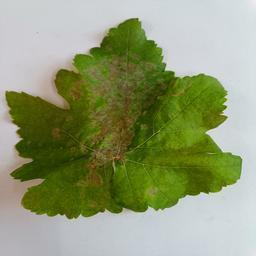Powdery-Mildew: (83, 119, 137, 187), (106, 49, 158, 93), (65, 66, 109, 99), (101, 100, 117, 117), (182, 122, 199, 138), (49, 125, 65, 142), (144, 181, 160, 197)
